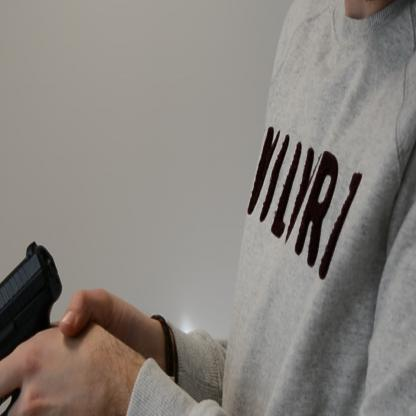gun: (0, 239, 72, 415)
